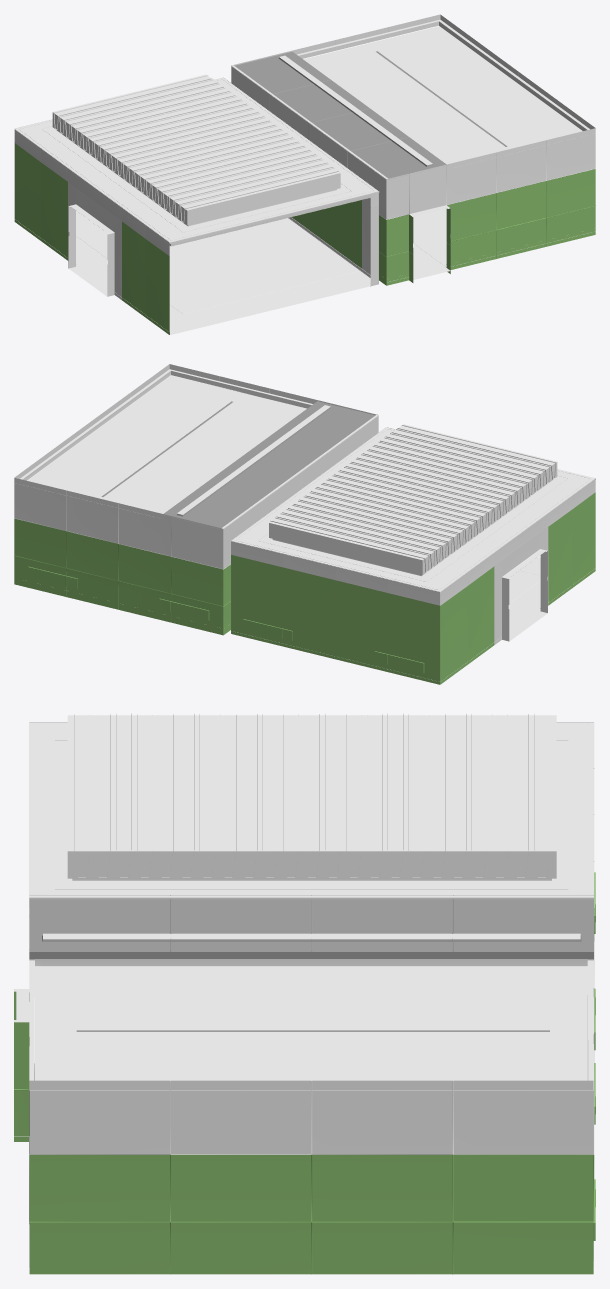
The picture shows the model from 3 angles, top to bottom: view 1: azimuth 30°, elevation 25°; view 2: azimuth 150°, elevation 25°; view 3: azimuth 270°, elevation 25°; orthographic projection. The views are drawn at different scales.
Visible parts, largest first — view 1: SM_H_Building_FutureTech_HBlue_01_InterWall_11; view 2: SM_H_Building_FutureTech_HBlue_01_InterWall_11; view 3: SM_H_Building_FutureTech_HBlue_01_InterWall_11.
Part boxes in pixels (<box>): SM_H_Building_FutureTech_HBlue_01_InterWall_11: <box>14,14,595,335</box>; SM_H_Building_FutureTech_HBlue_01_InterWall_11: <box>14,364,595,684</box>; SM_H_Building_FutureTech_HBlue_01_InterWall_11: <box>14,713,595,1274</box>.
Size of the model in its own units: 428 by 669 by 168.
